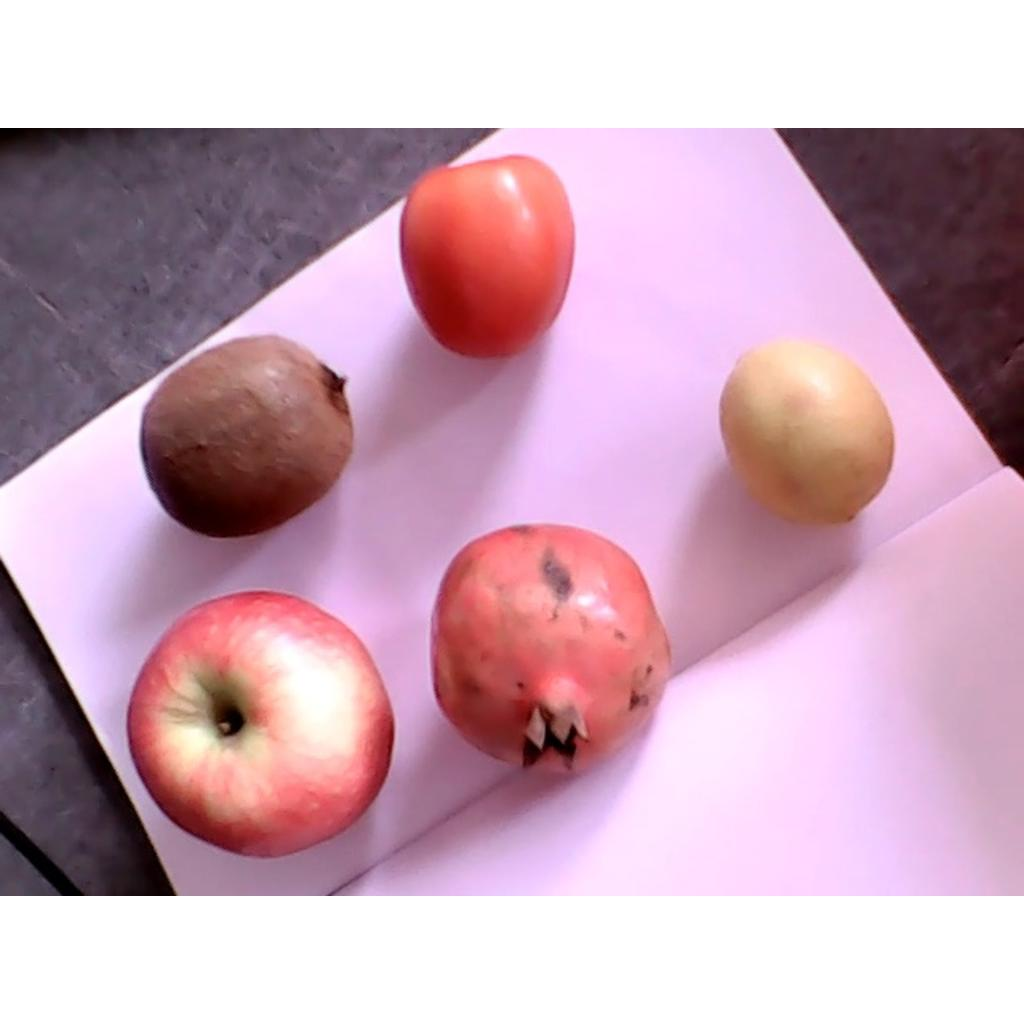apple: (129, 590, 394, 856)
kiwi: (143, 334, 353, 539)
lemon: (720, 345, 893, 524)
pomegranate: (428, 526, 670, 773)
tomato: (401, 152, 574, 360)
